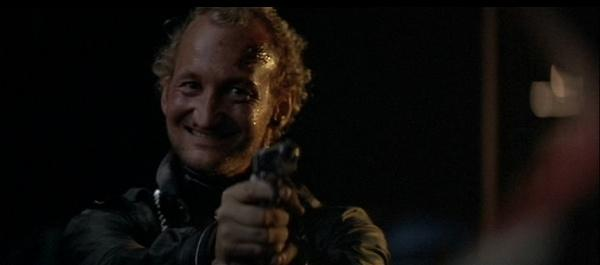Gun: (247, 137, 300, 182)
